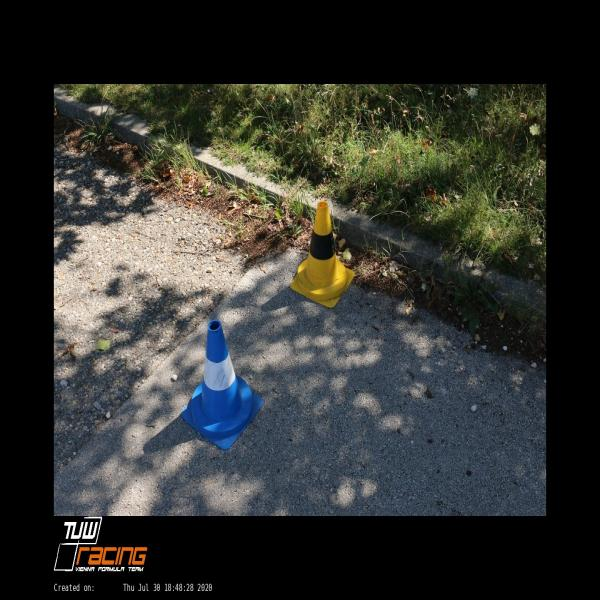blue_cone: (180, 319, 264, 450)
yellow_cone: (289, 200, 354, 308)
